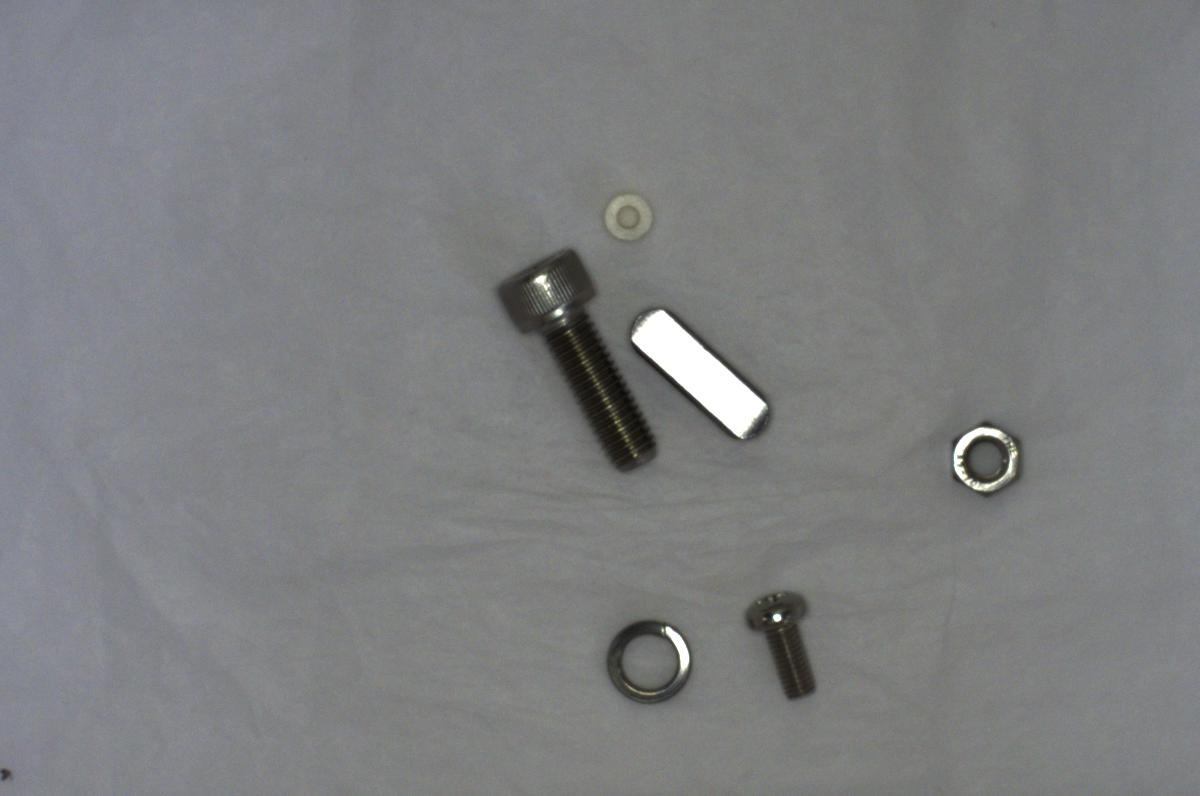Hexagon nut: (939, 418, 1033, 506)
Hexagon screw: (491, 246, 664, 481)
Keybar: (626, 300, 784, 453)
Plastic cushion pillar: (589, 186, 665, 251)
Round head screw: (737, 577, 829, 710)
Spring washer: (605, 614, 700, 704)
